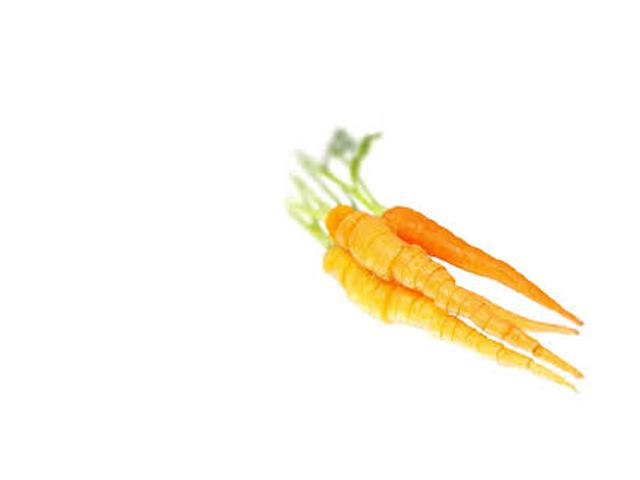carrot: (308, 242, 581, 396)
